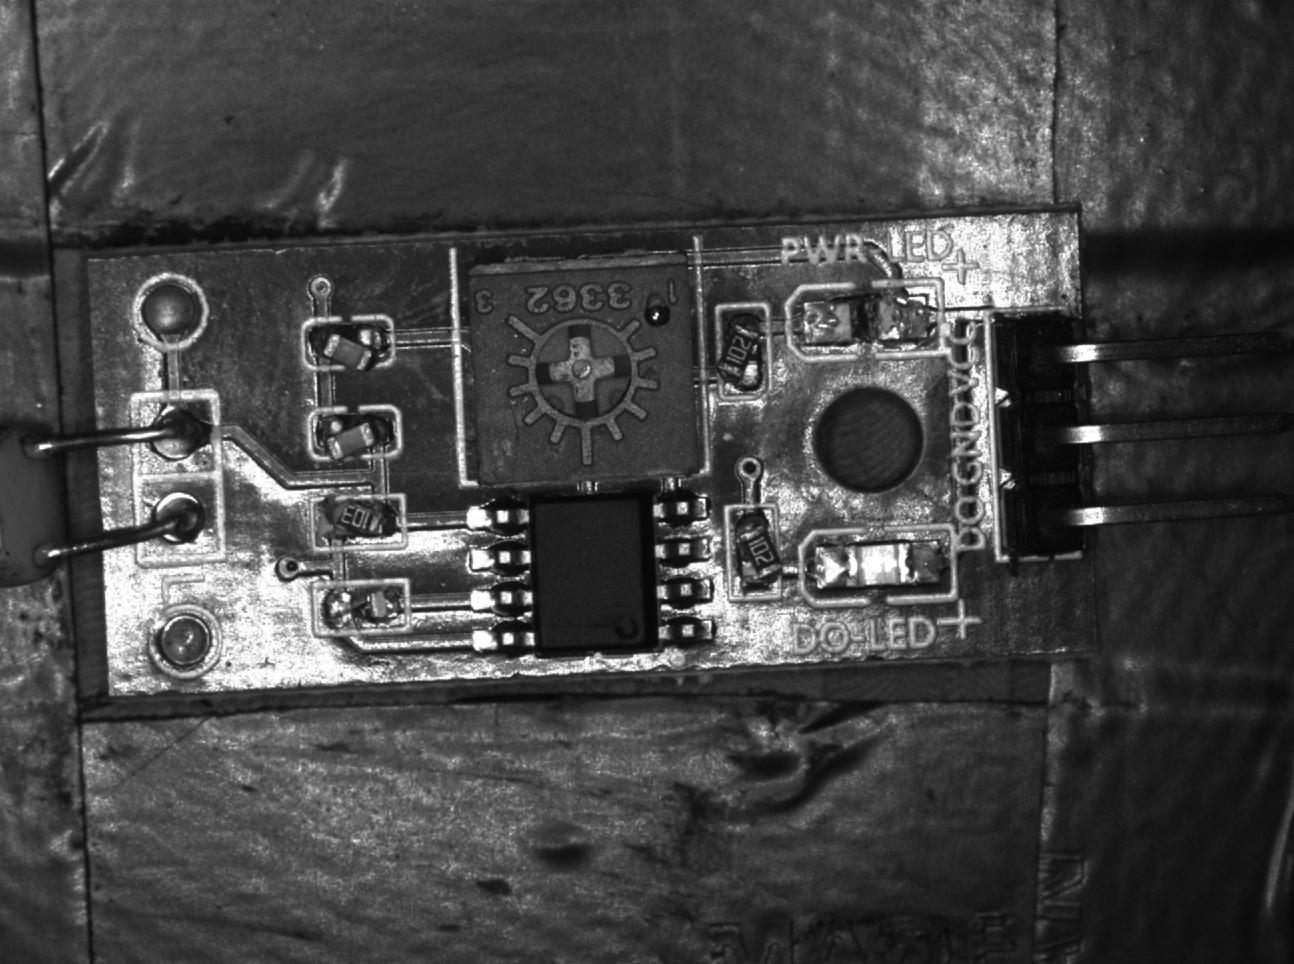lifted: (310, 493, 407, 554), (715, 306, 776, 402), (728, 503, 782, 602), (308, 409, 403, 465), (302, 318, 393, 375)
miss: (315, 584, 411, 633)
